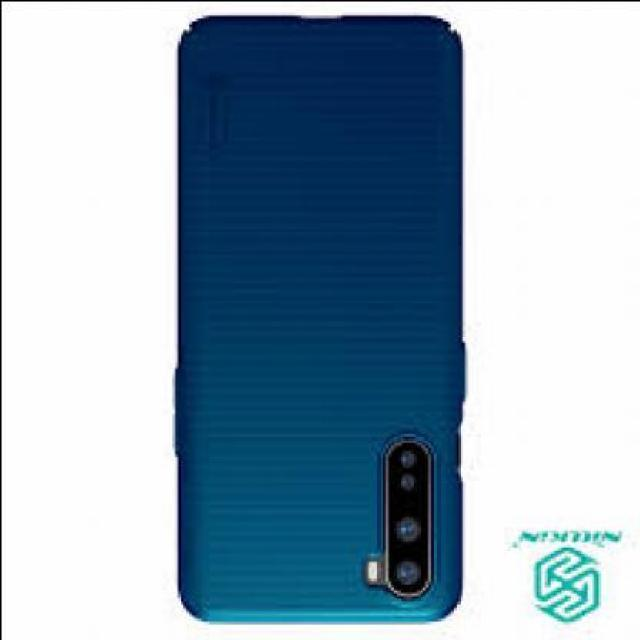phone: (176, 14, 464, 620)
